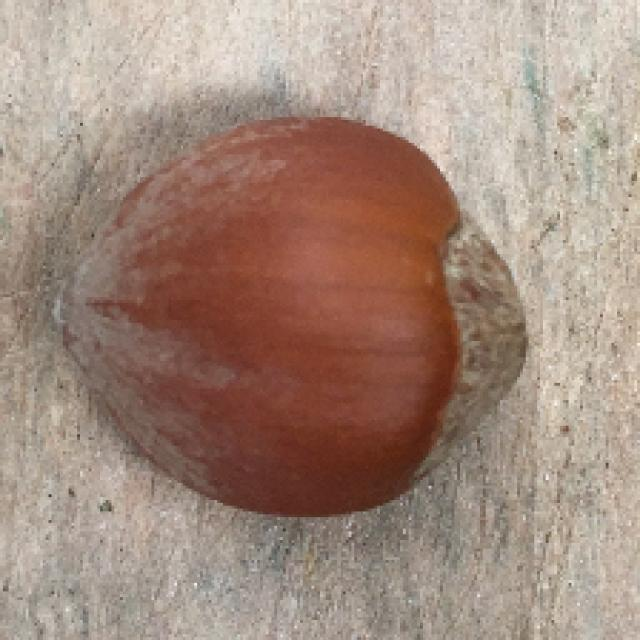qualityHazelnut: (47, 110, 528, 526)
